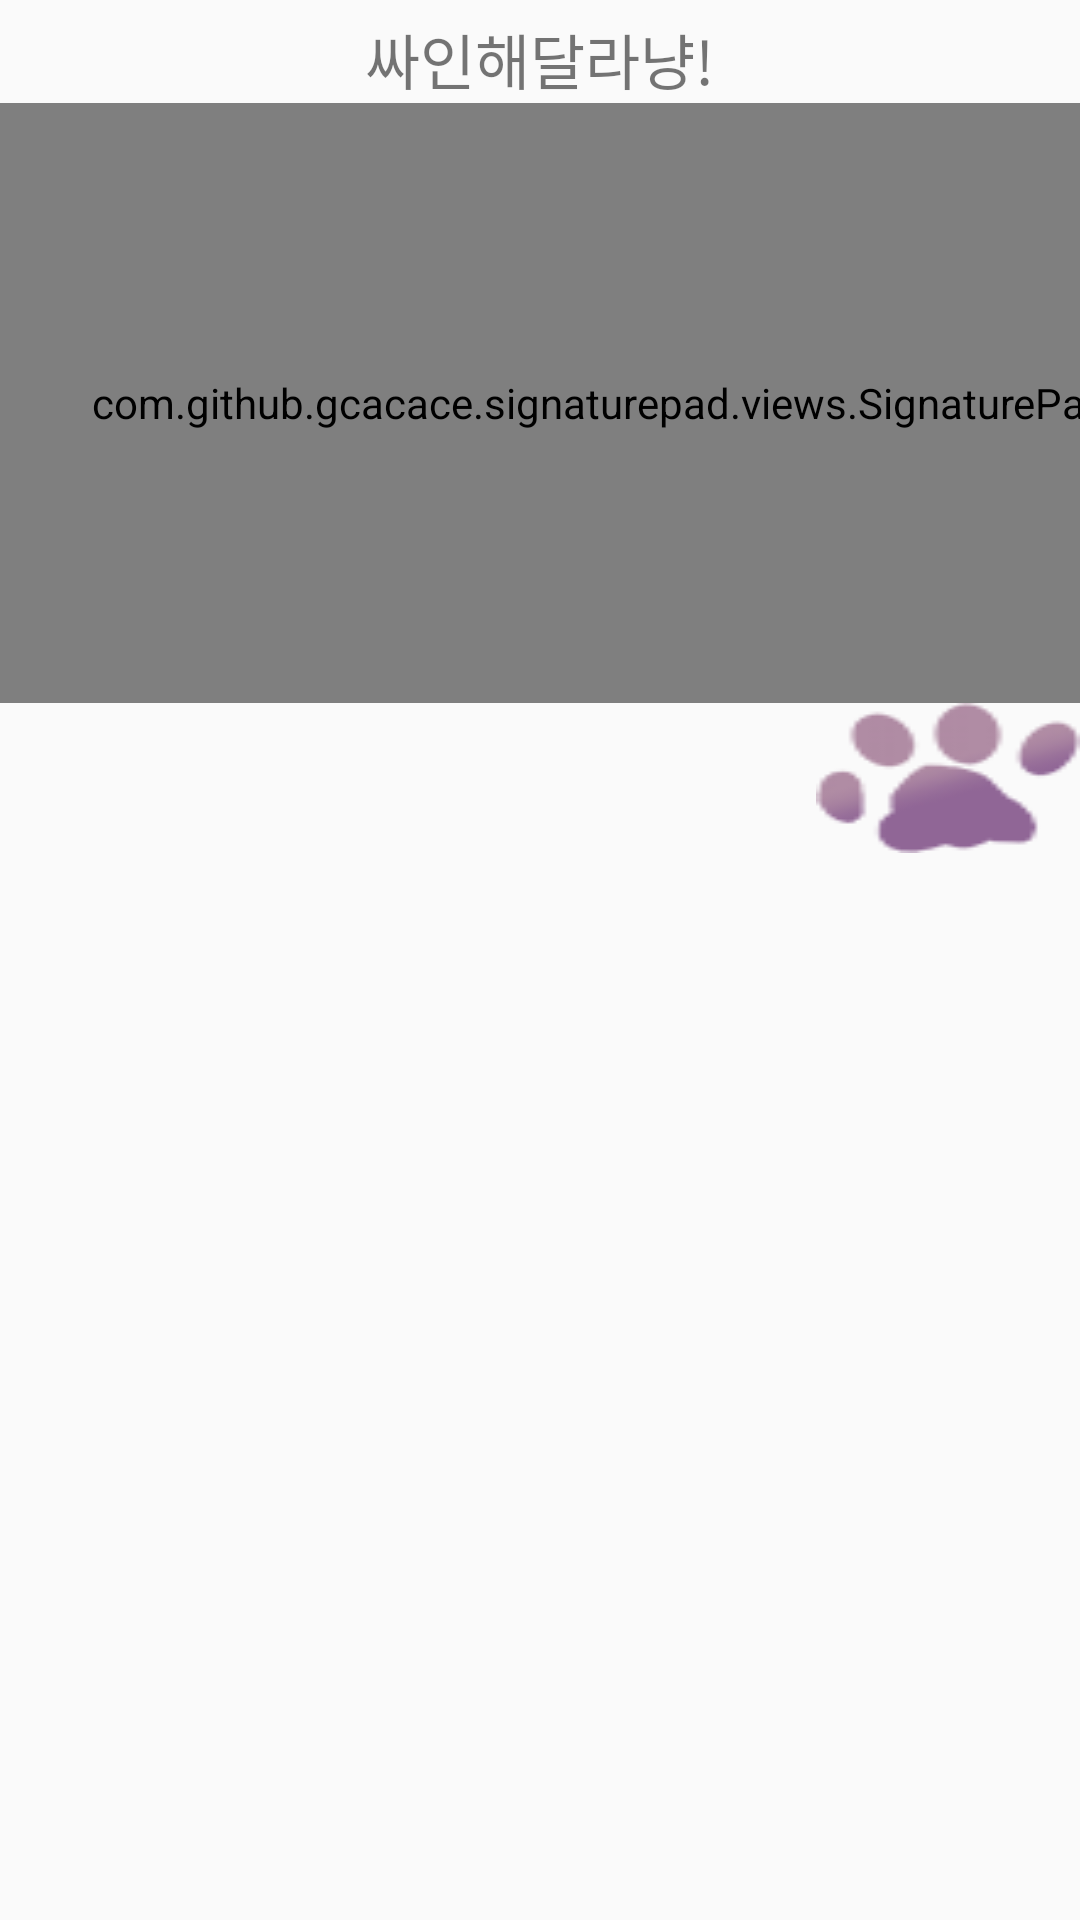

Point at icon controls on the screen. Image size 1080 x 1920, points as [x,y].
cat save: [948,783]
